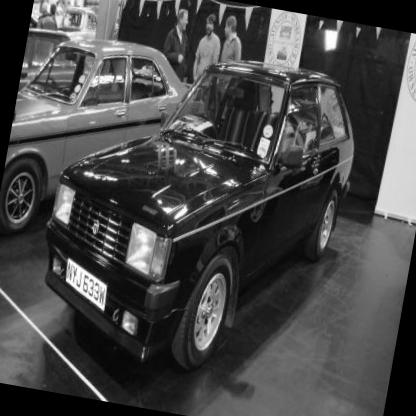car: (17, 1, 393, 397), (1, 6, 193, 242)
